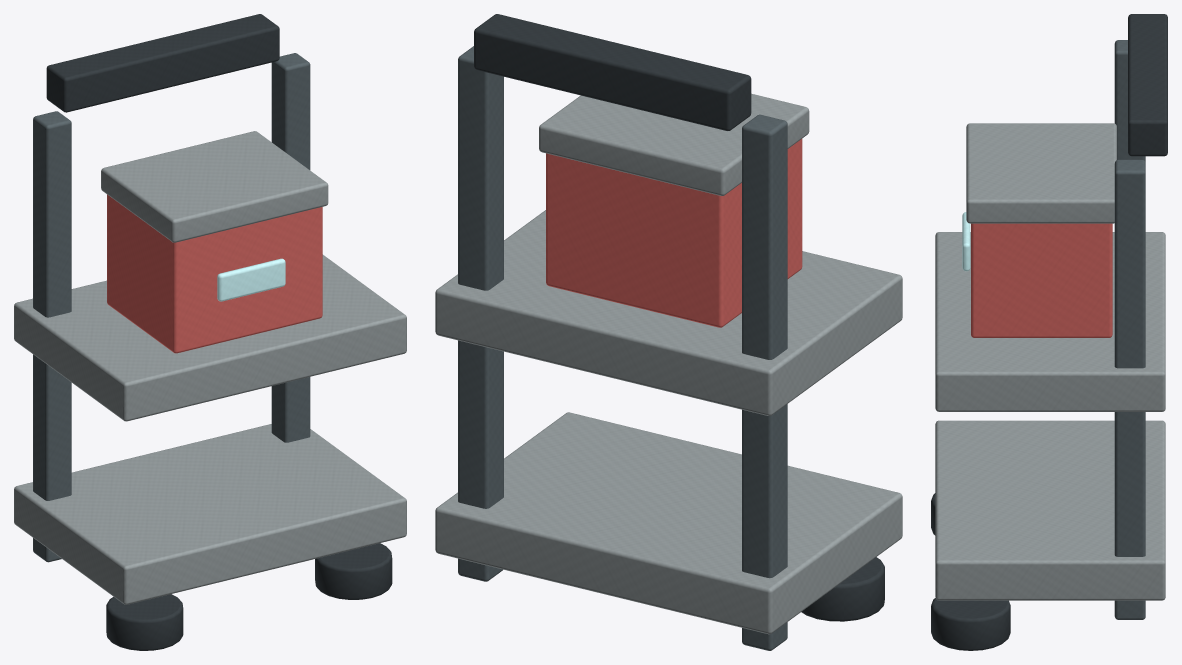
The model's file is ToolCart.glb.
3 views of the same model, side by side, from view 1: azimuth 30°, elevation 25°; view 2: azimuth 150°, elevation 25°; view 3: azimuth 270°, elevation 25° (orthographic). The views are drawn at different scales.
Parts seen in each view (by area): view 1: ToolCart_Mesh; view 2: ToolCart_Mesh; view 3: ToolCart_Mesh.
Boxes of the visible parts, bbox=[...] form: ToolCart_Mesh: bbox=[14, 14, 406, 650]; ToolCart_Mesh: bbox=[435, 14, 902, 650]; ToolCart_Mesh: bbox=[931, 14, 1167, 650].
Bounding box in the file's own units: 0.76 × 1.28 × 0.535.
Materials: 5 (5 with a texture image).
